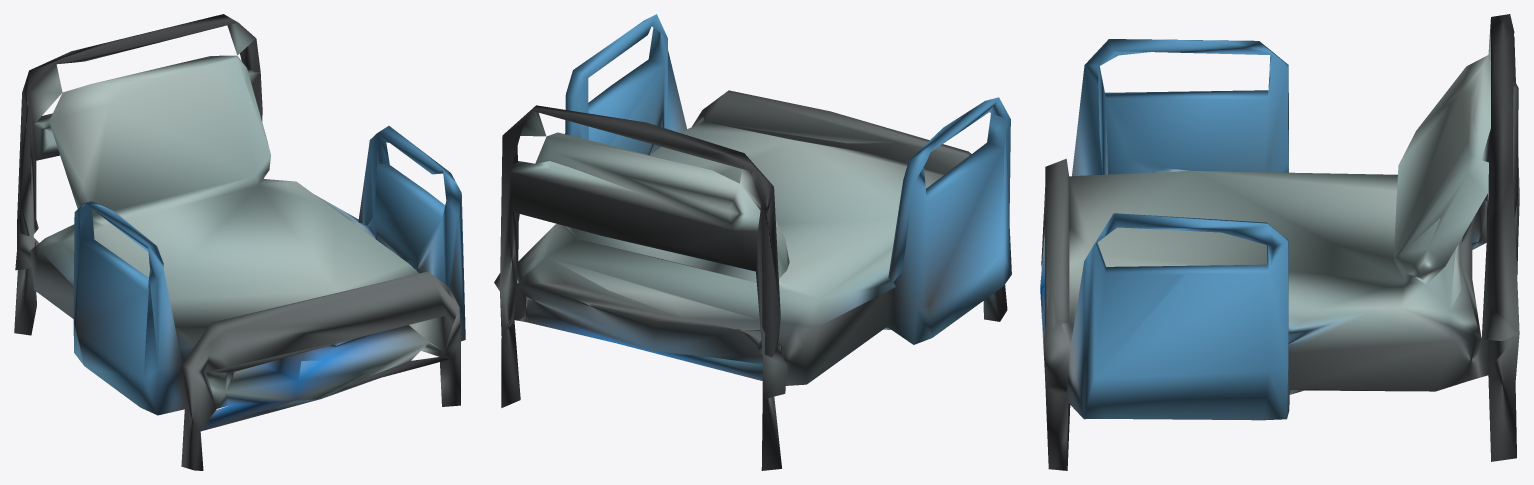
File: gen3d-hospital-bed-lod1.glb
The picture shows the model from 3 angles, left to right: view 1: azimuth 30°, elevation 25°; view 2: azimuth 150°, elevation 25°; view 3: azimuth 270°, elevation 25°; orthographic projection. The views are drawn at different scales.
Visible parts, largest first — view 1: part_0; view 2: part_0; view 3: part_0.
Part boxes in pixels (bbox=[...]): part_0: bbox=[14, 14, 465, 470]; part_0: bbox=[494, 14, 1011, 470]; part_0: bbox=[1040, 14, 1519, 470].
Size of the model in its own units: 1.2 by 0.9929 by 1.31.
